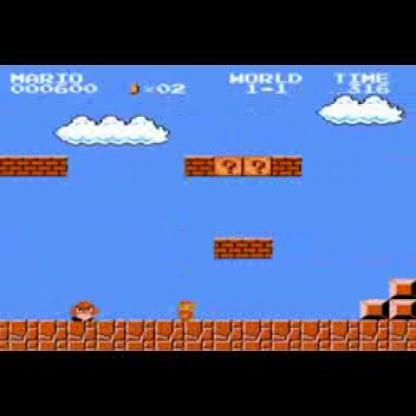Goomba: (70, 296, 98, 323)
